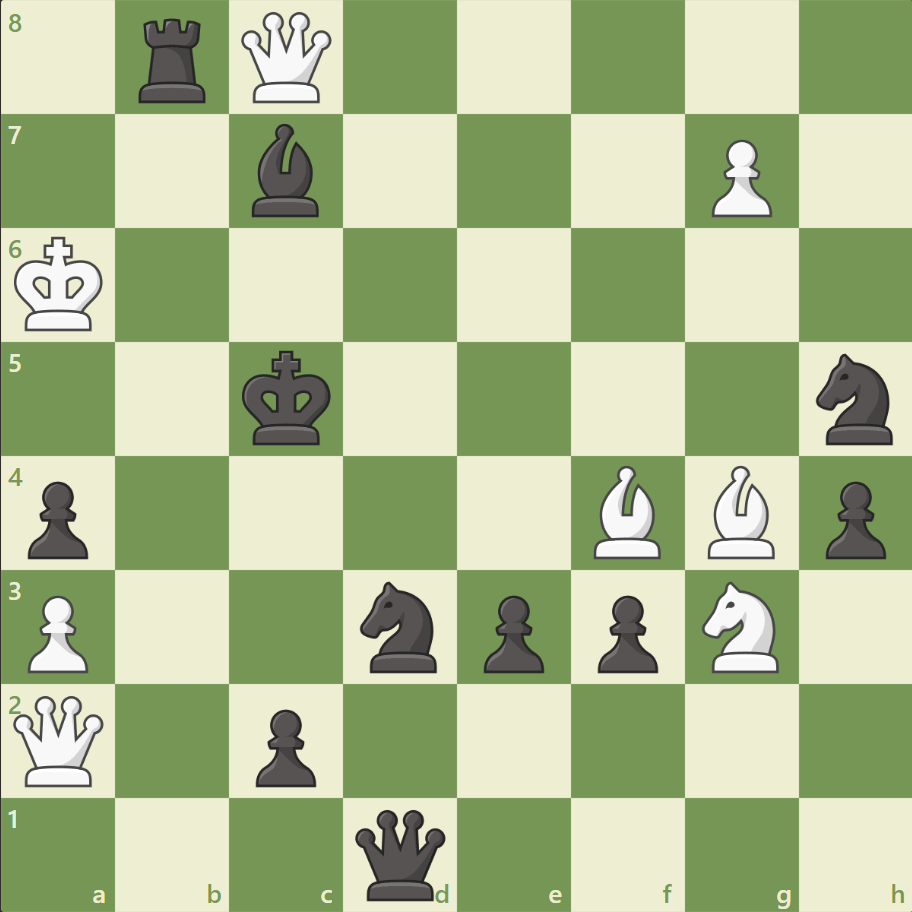B: (585, 460, 669, 563), (698, 460, 782, 563)
K: (11, 231, 111, 339)
N: (692, 575, 789, 677)
P: (701, 132, 776, 223), (20, 586, 95, 677)
Q: (237, 9, 336, 108), (10, 690, 109, 789)
b: (244, 120, 328, 222)
k: (238, 344, 338, 452)
n: (351, 575, 449, 677), (806, 348, 903, 450)
p: (20, 473, 95, 564), (474, 586, 549, 677), (247, 700, 322, 791), (815, 473, 889, 564), (588, 586, 662, 677)
q: (351, 804, 450, 903)
r: (133, 12, 215, 109)
